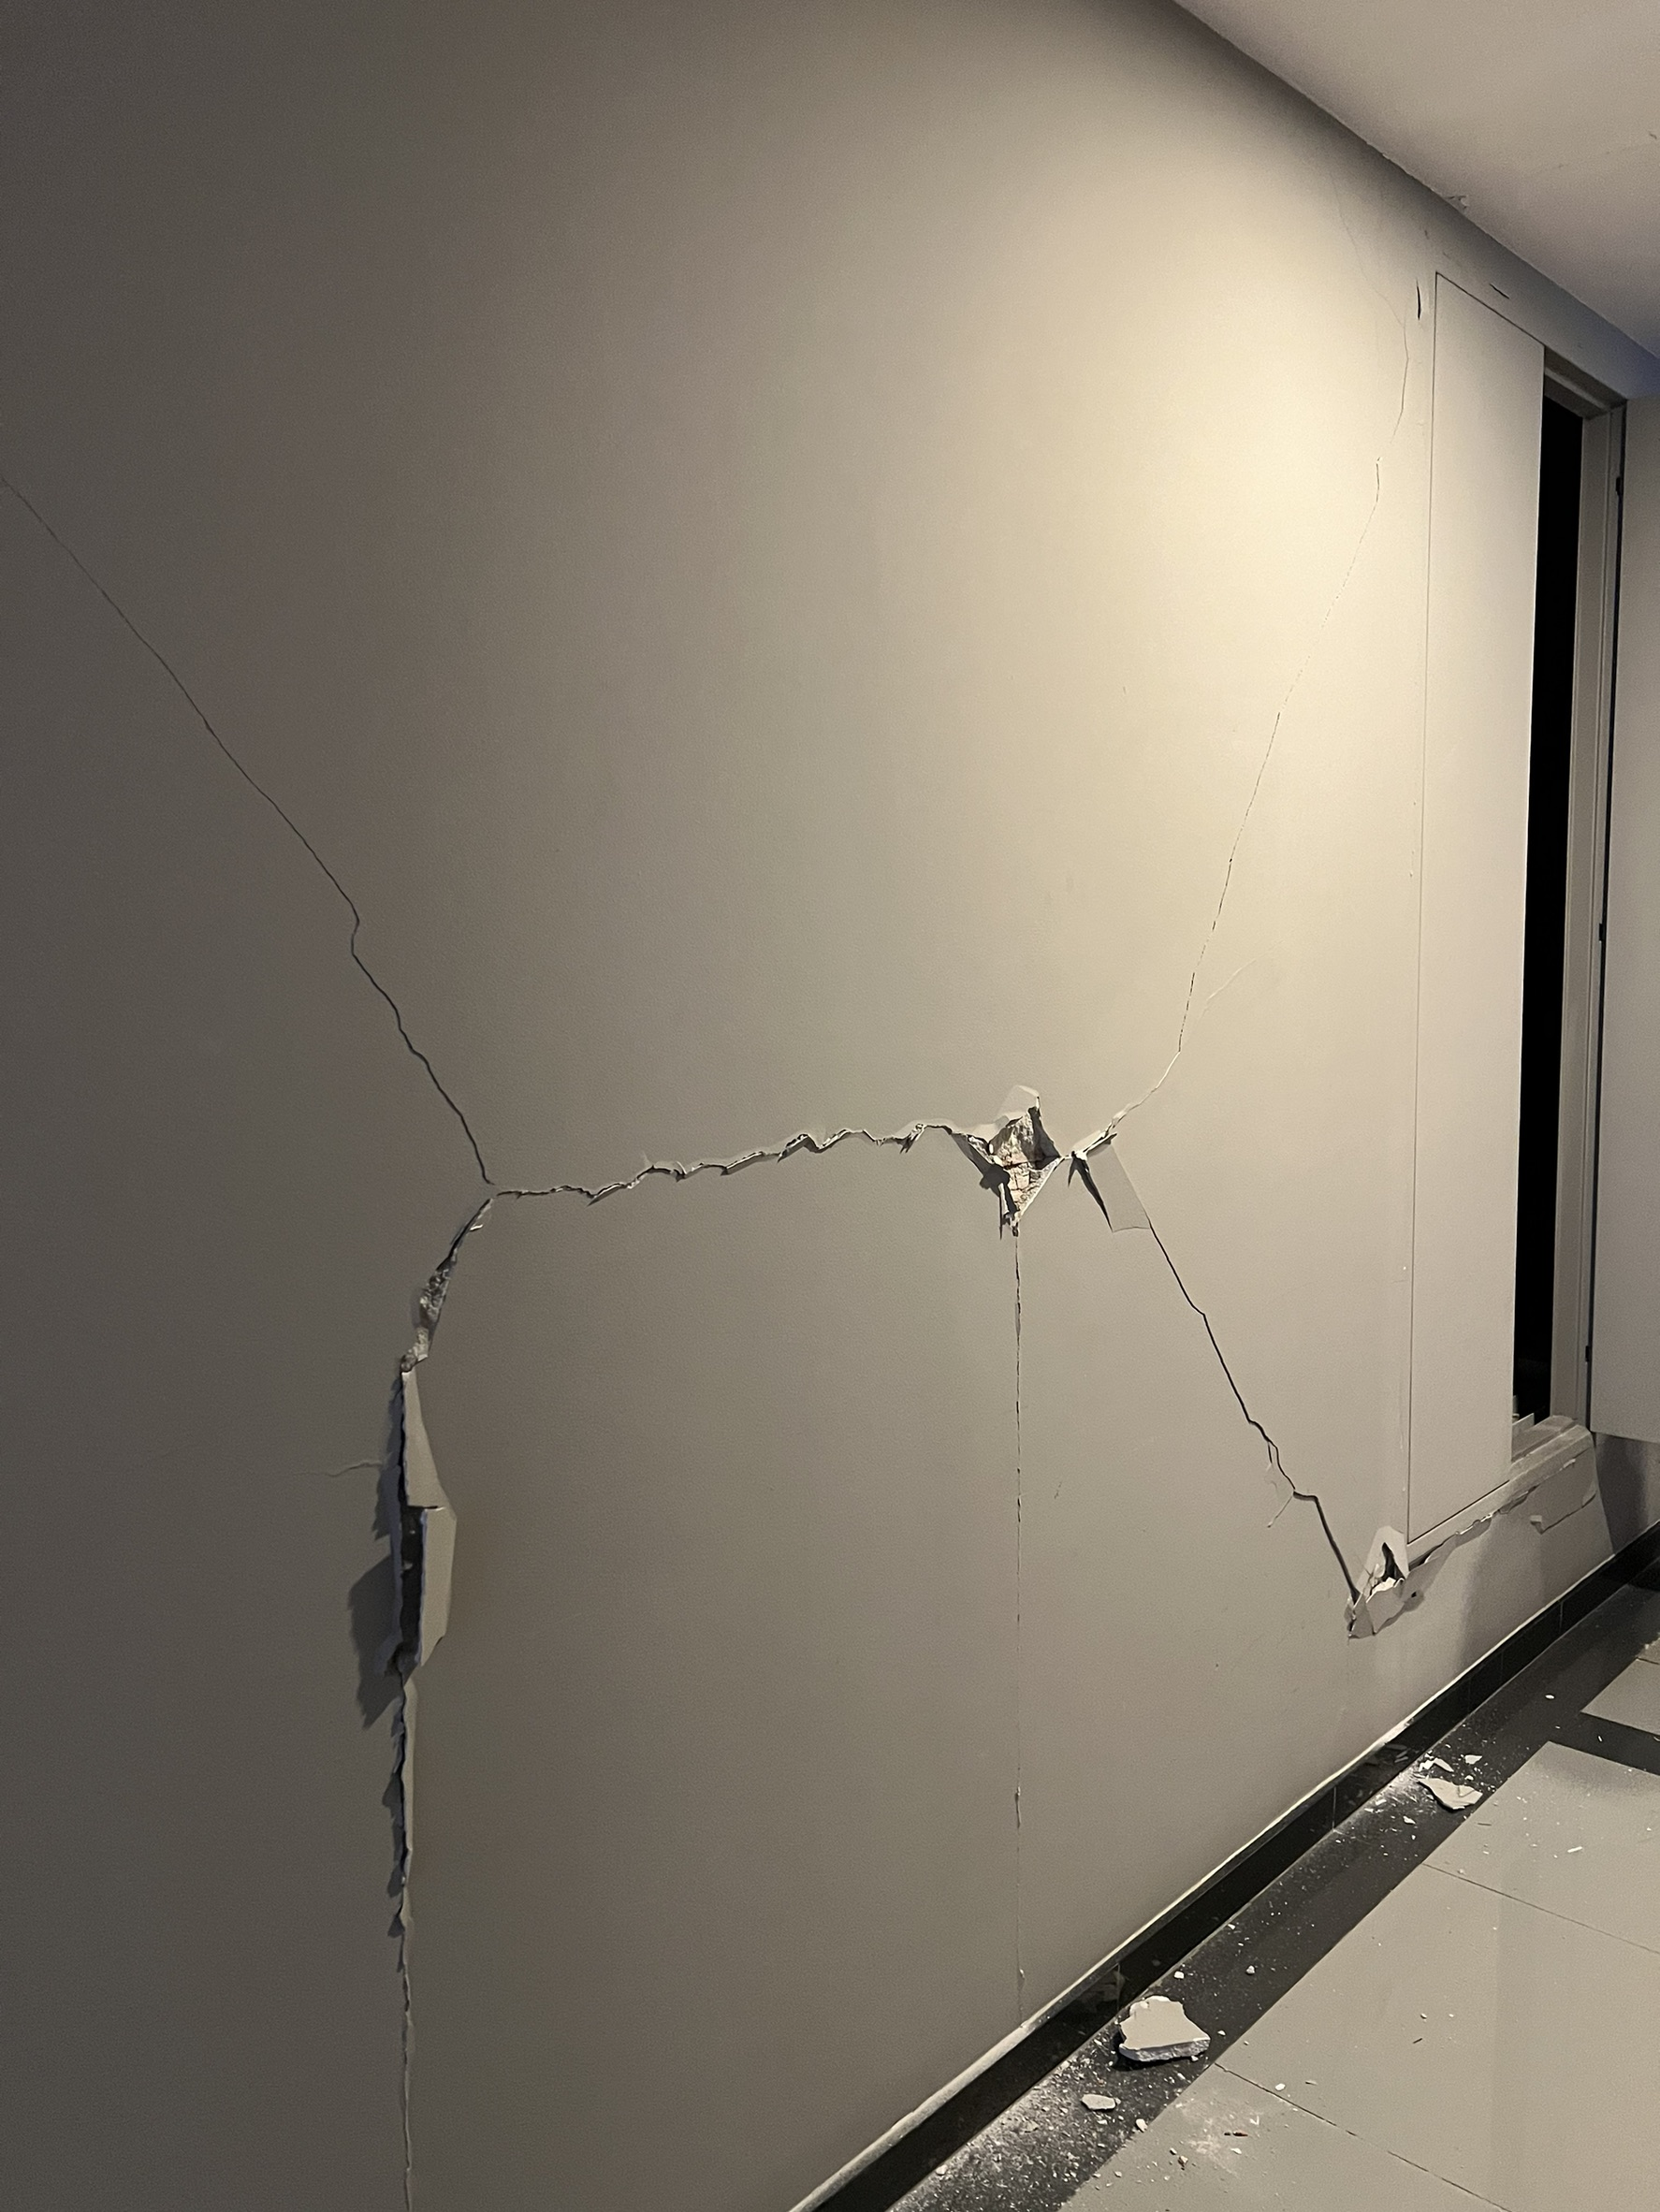Medium: (314, 938, 1327, 1686)
